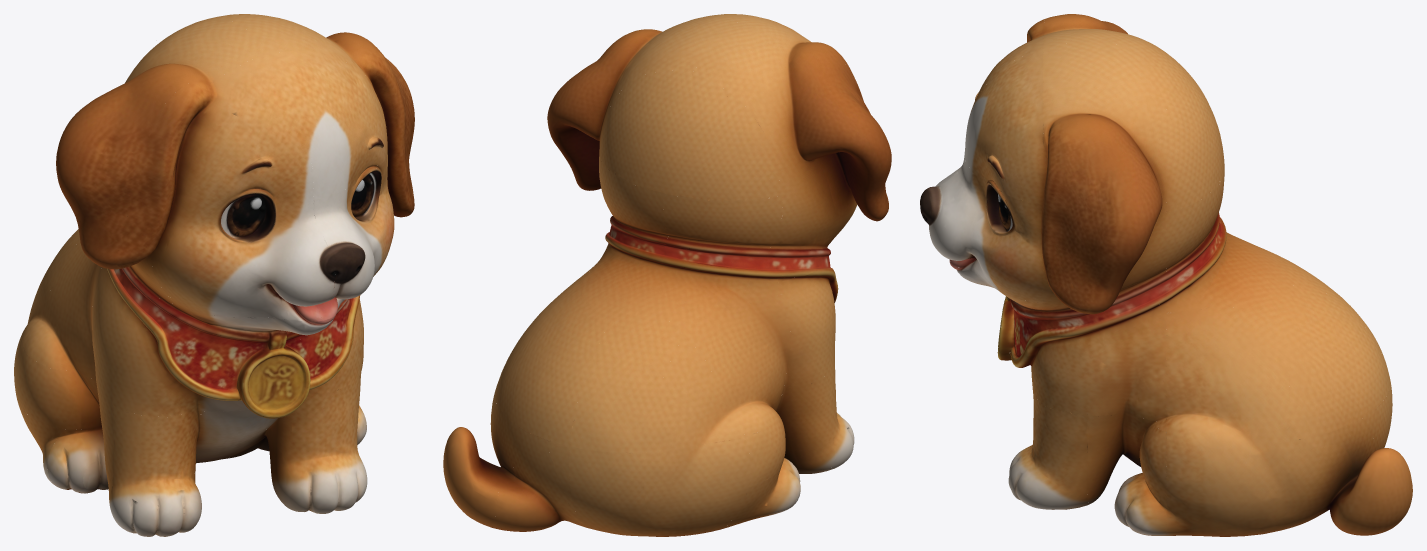
File: hi3d-zodiac-dog-web.glb
The picture shows the model from 3 angles, left to right: view 1: azimuth 30°, elevation 25°; view 2: azimuth 150°, elevation 25°; view 3: azimuth 270°, elevation 25°; orthographic projection. The views are drawn at different scales.
Parts seen in each view (by area): view 1: zodiac_dog_mesh_01; view 2: zodiac_dog_mesh_01; view 3: zodiac_dog_mesh_01.
Boxes of the visible parts, left/top/right/bottom form: zodiac_dog_mesh_01: left=14, top=14, right=414, bottom=536; zodiac_dog_mesh_01: left=443, top=14, right=891, bottom=536; zodiac_dog_mesh_01: left=920, top=14, right=1412, bottom=536.
Size of the model in its own units: 0.7861 by 0.9699 by 1.
1 material, 1 textured.
